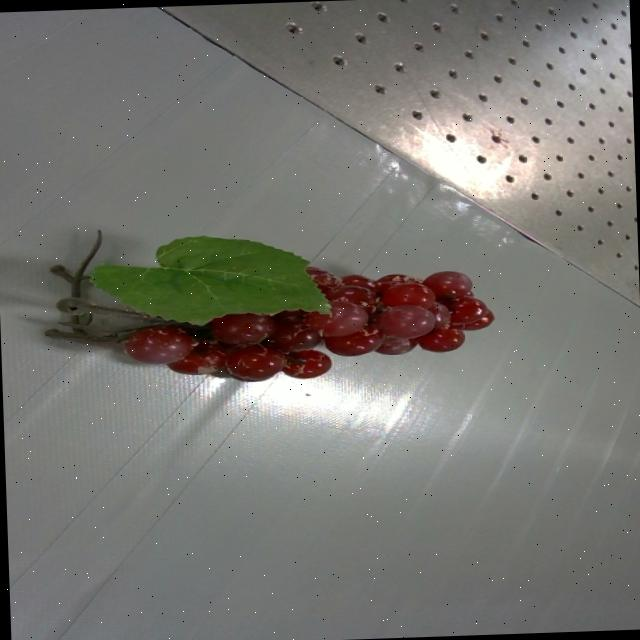grape: (44, 233, 493, 380)
